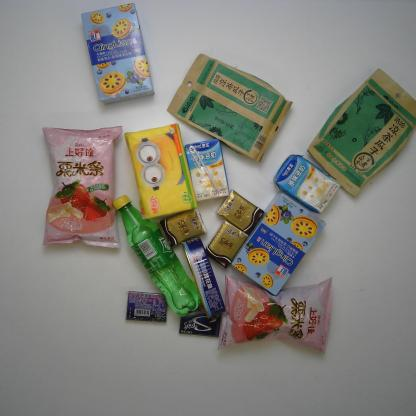Canned Food: (181, 235, 227, 320)
Dessert: (231, 190, 326, 296), (80, 3, 155, 108)
Dried Food: (303, 68, 414, 199), (167, 53, 292, 162)
Drink: (112, 193, 202, 317)
Gum: (123, 291, 168, 322), (177, 308, 221, 339)
Milk: (272, 151, 342, 214), (184, 138, 230, 204)
Puffed Food: (40, 124, 123, 251), (215, 274, 335, 356)
Tissue: (124, 121, 197, 221), (216, 188, 264, 235), (204, 219, 248, 269), (157, 206, 207, 246)
